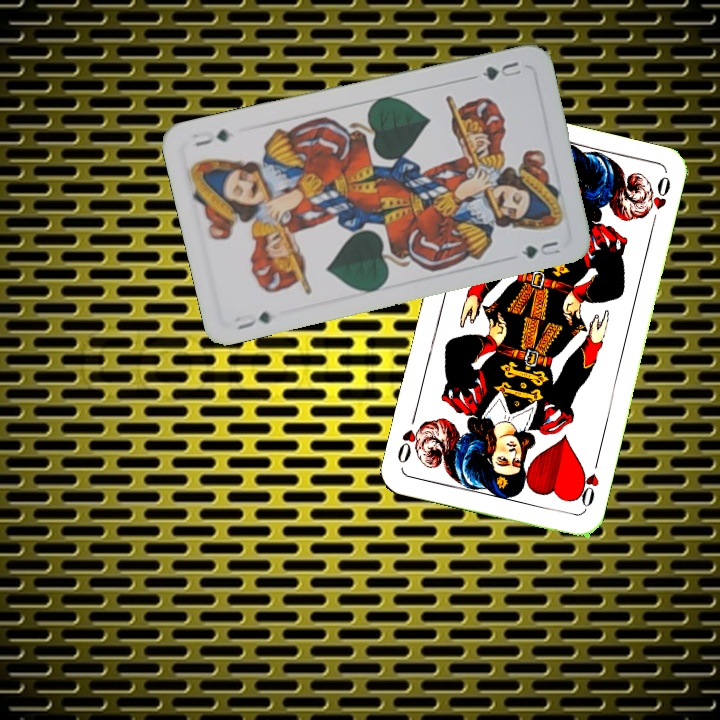GU: (478, 57, 526, 83), (229, 307, 273, 333)
HO: (571, 454, 602, 512)
